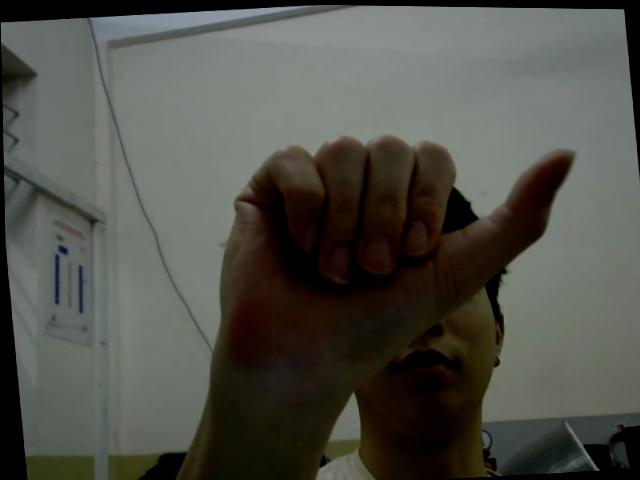A: (193, 112, 591, 359)
